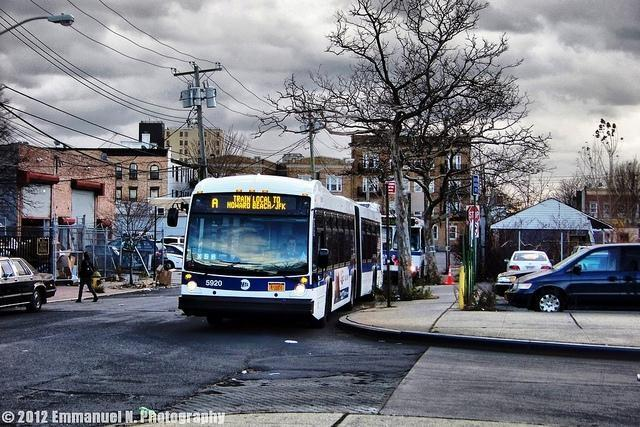bus: (166, 174, 386, 328), (384, 216, 425, 276)
car: (503, 242, 640, 311), (3, 258, 59, 309), (504, 250, 550, 272), (107, 237, 158, 255), (164, 245, 183, 269), (158, 242, 187, 256), (570, 246, 589, 254)
